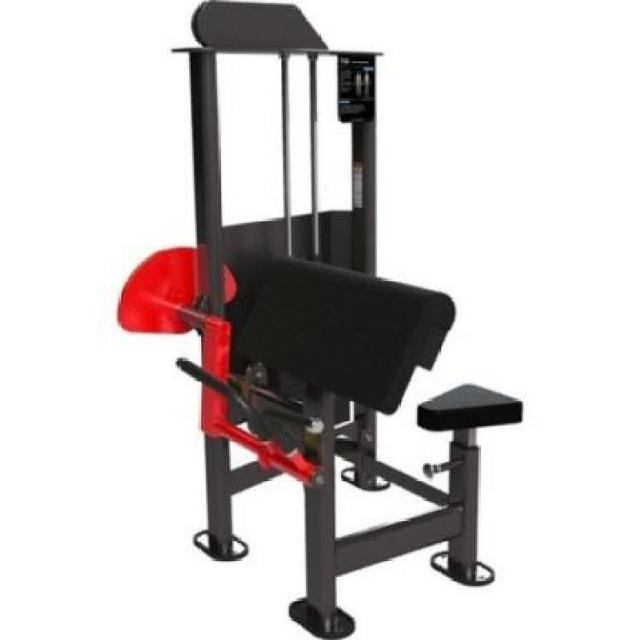arm curl machine: (117, 1, 525, 638)
